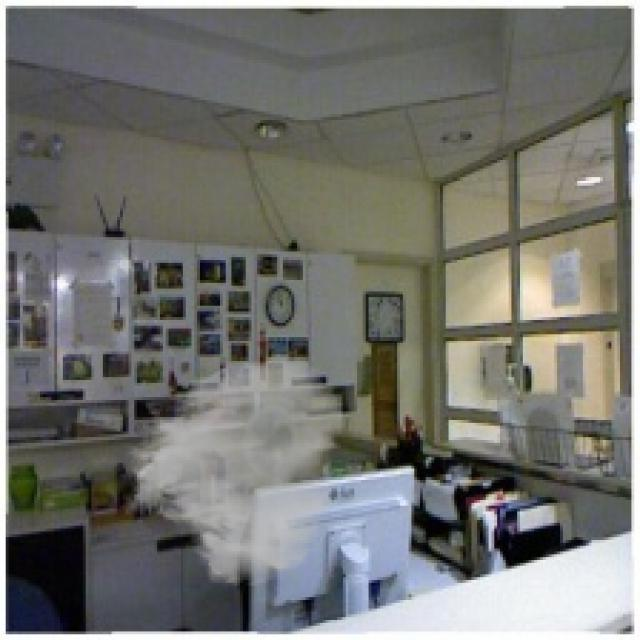Smoke: (120, 352, 349, 588)
